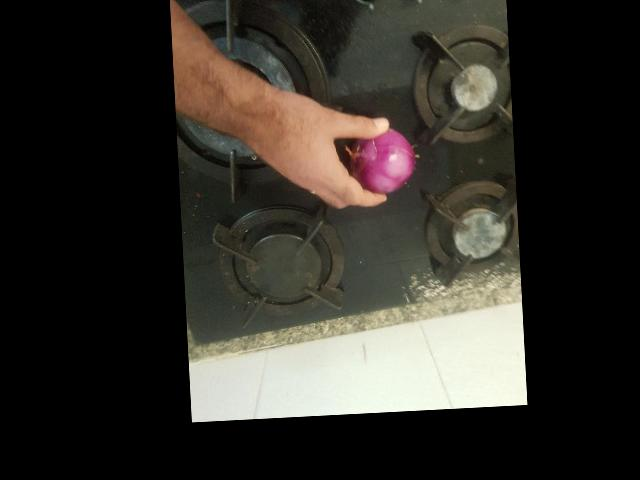onion: (406, 245, 460, 298)
